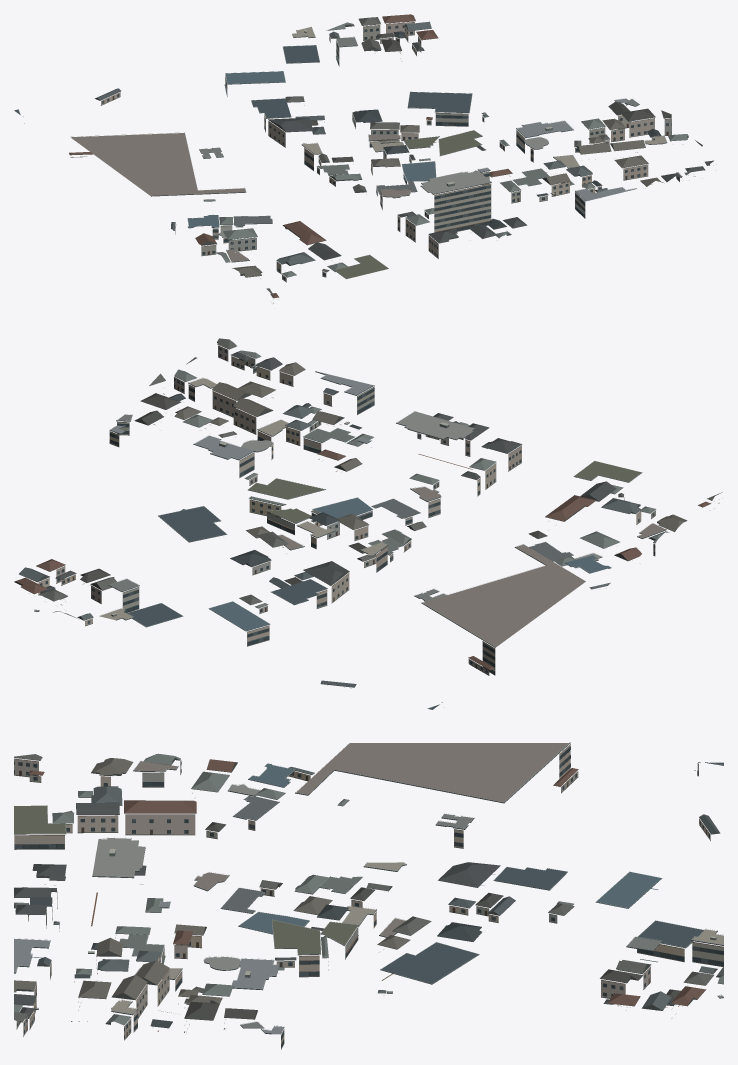
3 views of the same model, one above another, from view 1: azimuth 30°, elevation 25°; view 2: azimuth 150°, elevation 25°; view 3: azimuth 270°, elevation 25° (orthographic). The views are drawn at different scales.
Parts seen in each view (by area): view 1: r1-c7; view 2: r1-c7; view 3: r1-c7.
Boxes of the visible parts, box(x1,y1,x2,y2) form: r1-c7: box(14, 14, 716, 303); r1-c7: box(14, 338, 722, 709); r1-c7: box(14, 742, 723, 1049).
Size of the model in its own units: 250 by 26.44 by 250.
